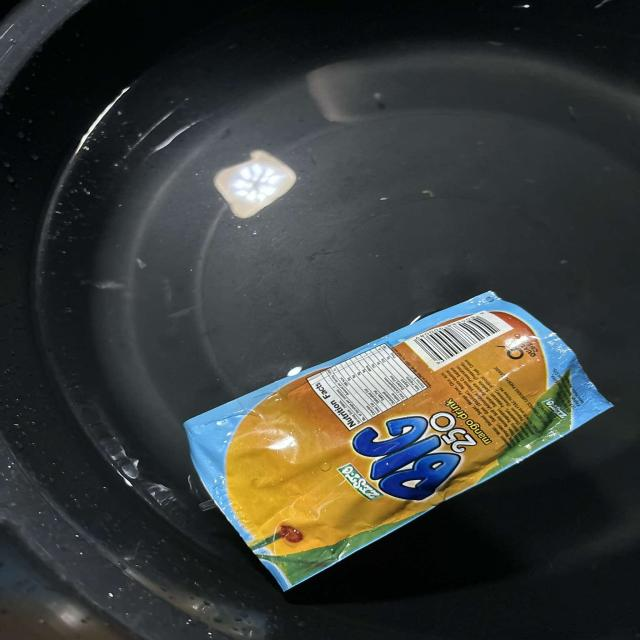Plastic Pouch: (162, 276, 640, 606)
